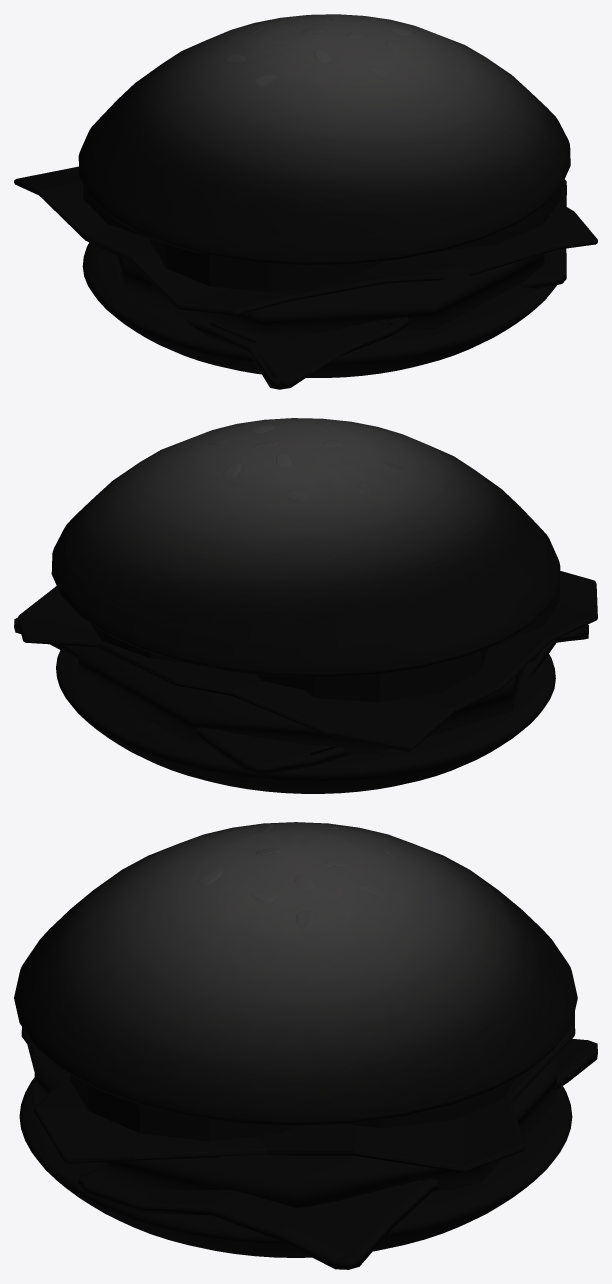
The model's file is BurgerBurnt.glb.
3 renders of one model, top to bottom at view 1: azimuth 30°, elevation 25°; view 2: azimuth 150°, elevation 25°; view 3: azimuth 270°, elevation 25°, orthographic. The views are drawn at different scales.
Parts seen in each view (by area): view 1: BurgerBurnt; view 2: BurgerBurnt; view 3: BurgerBurnt.
Part boxes in pixels (<box>): BurgerBurnt: <box>14,14,597,389</box>; BurgerBurnt: <box>14,418,597,793</box>; BurgerBurnt: <box>14,822,597,1269</box>.
Size of the model in its own units: 0.3821 by 0.215 by 0.343.
1 material, 1 textured.
